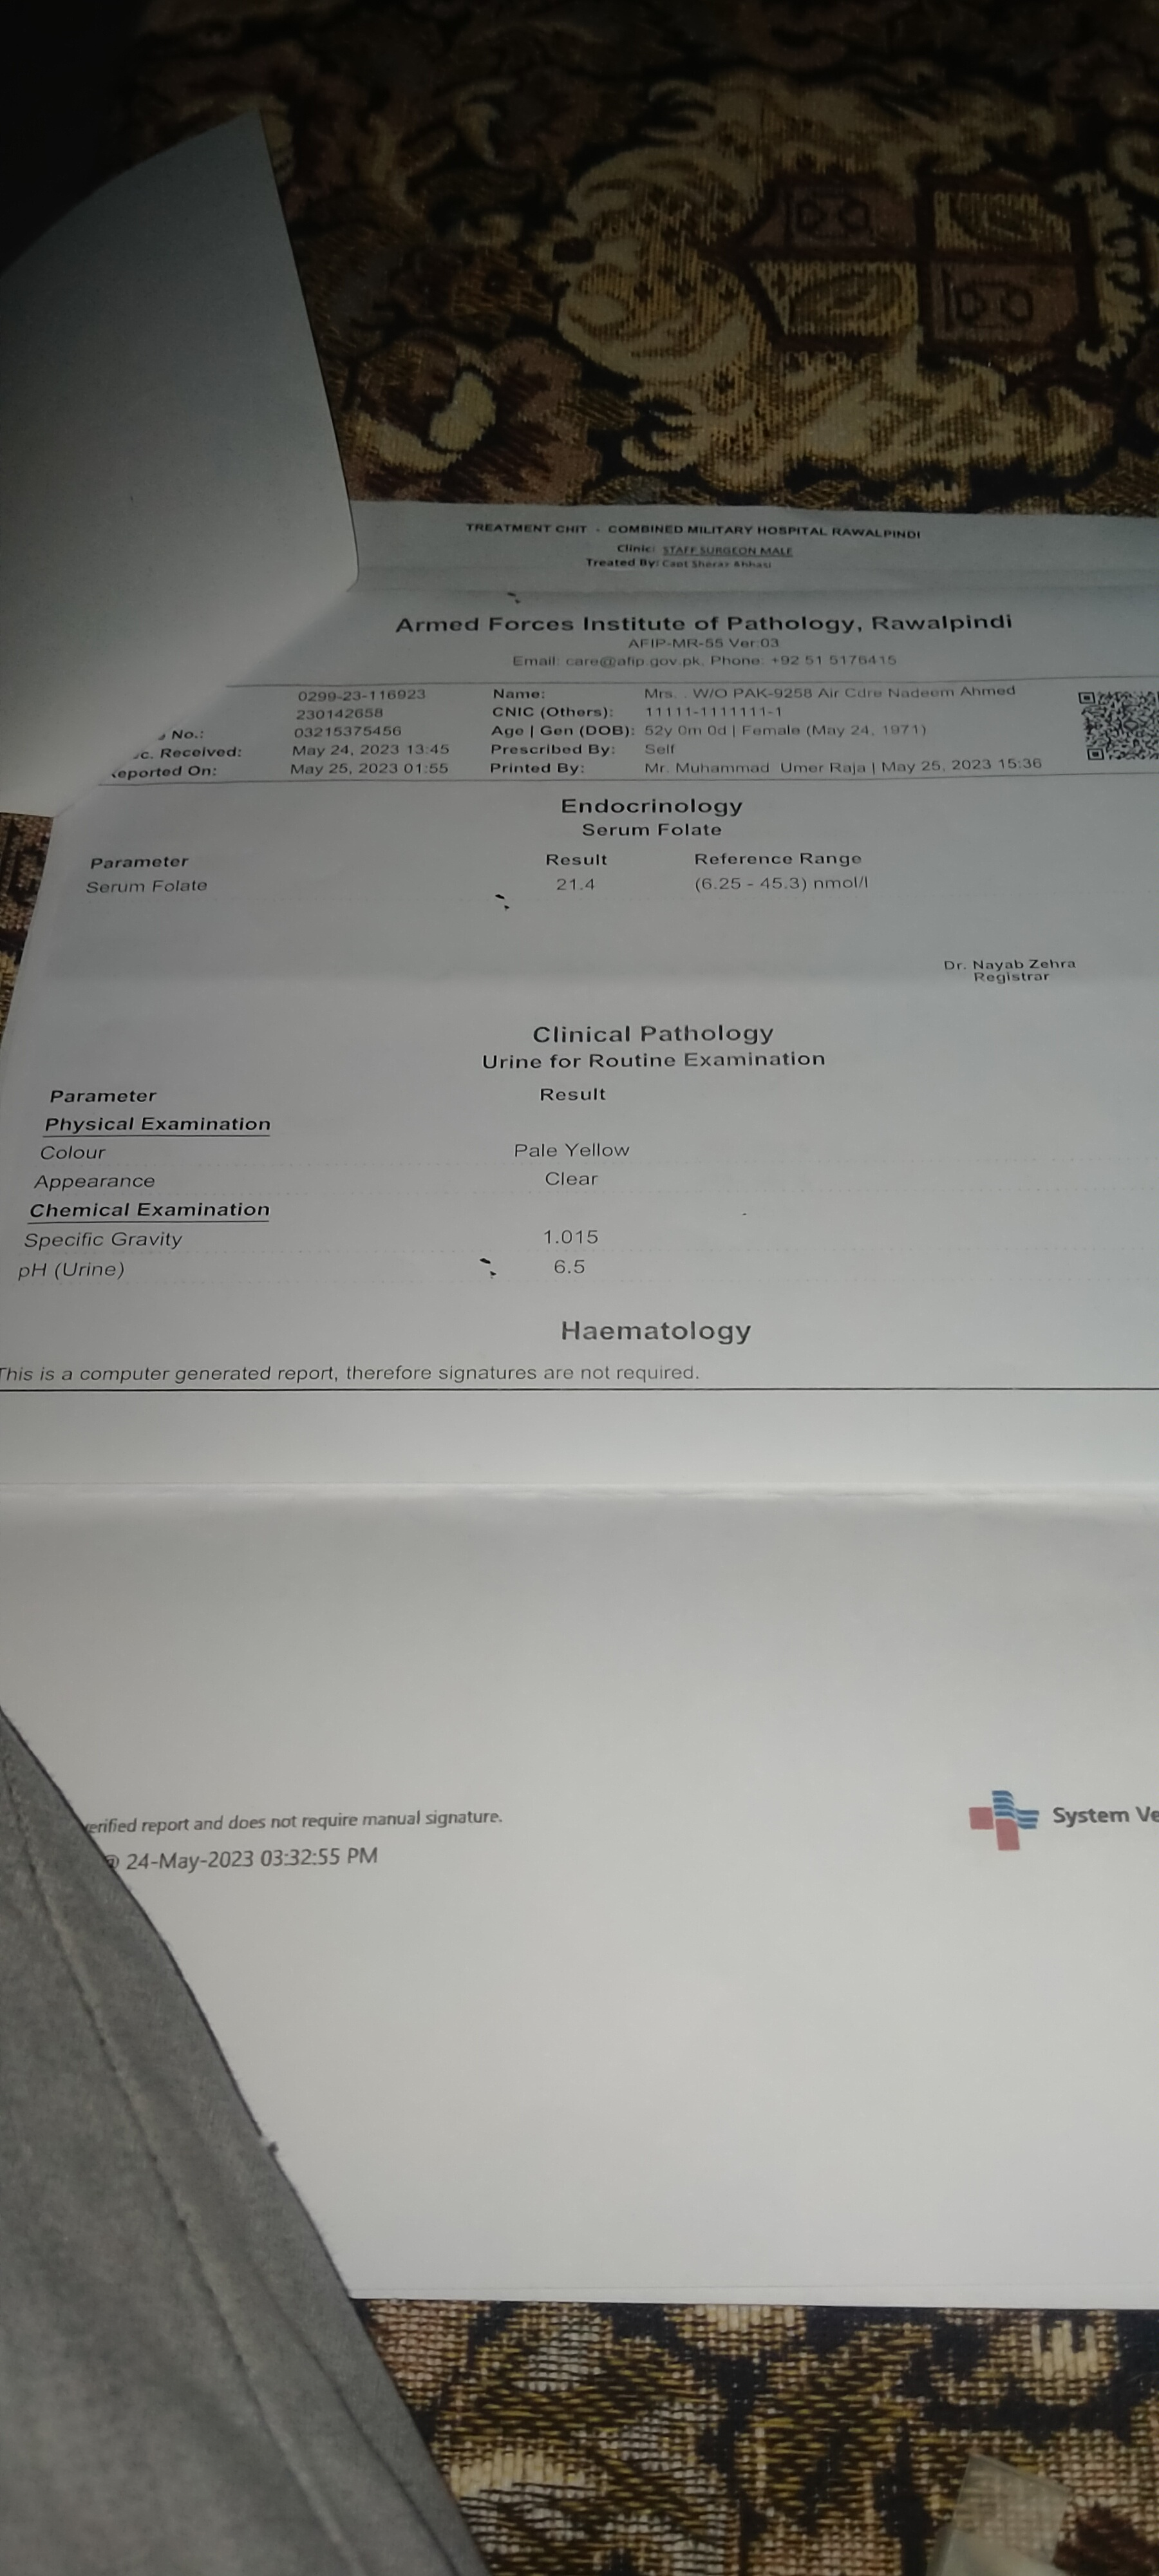report: (13, 836, 1159, 1352)
